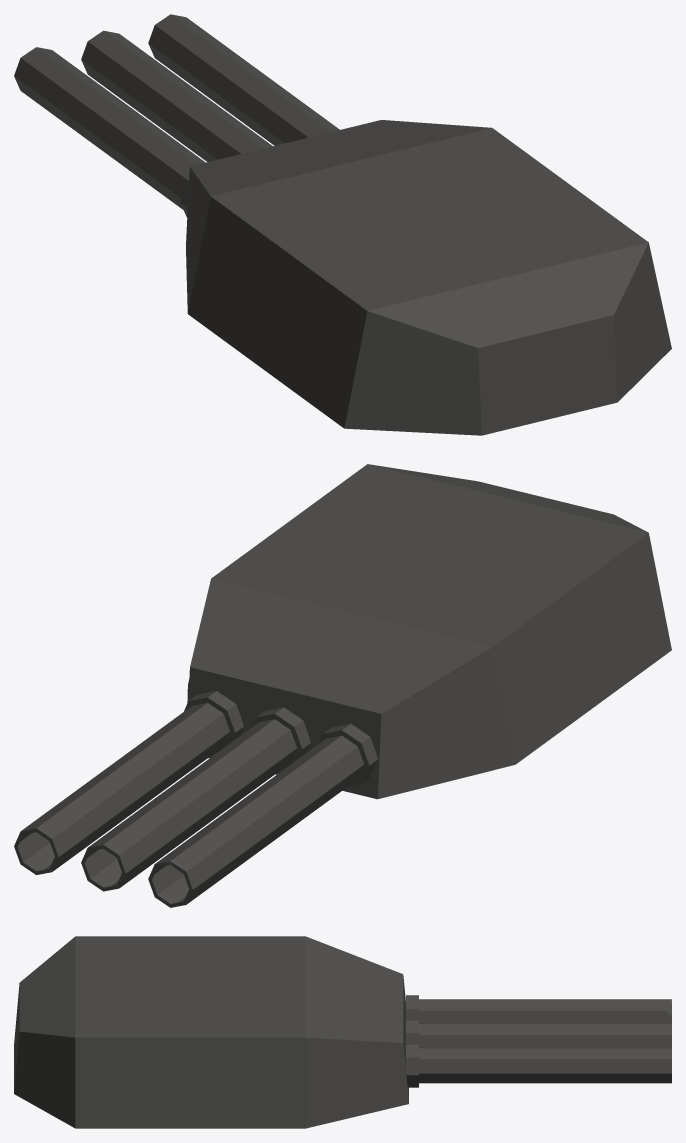
Rendered from EnemyRatteExtraTurret.fbx.
3 renders of one model, top to bottom at view 1: azimuth 30°, elevation 25°; view 2: azimuth 150°, elevation 25°; view 3: azimuth 270°, elevation 25°, orthographic. The views are drawn at different scales.
Visible parts, largest first — view 1: Cube.002; view 2: Cube.002; view 3: Cube.002.
Boxes of the visible parts, <box> form: Cube.002: <box>14,14,671,435</box>; Cube.002: <box>14,464,671,907</box>; Cube.002: <box>14,936,671,1128</box>.
Bounding box in the file's own units: 146 × 47.83 × 346.
Materials: 1 (1 with a texture image).
